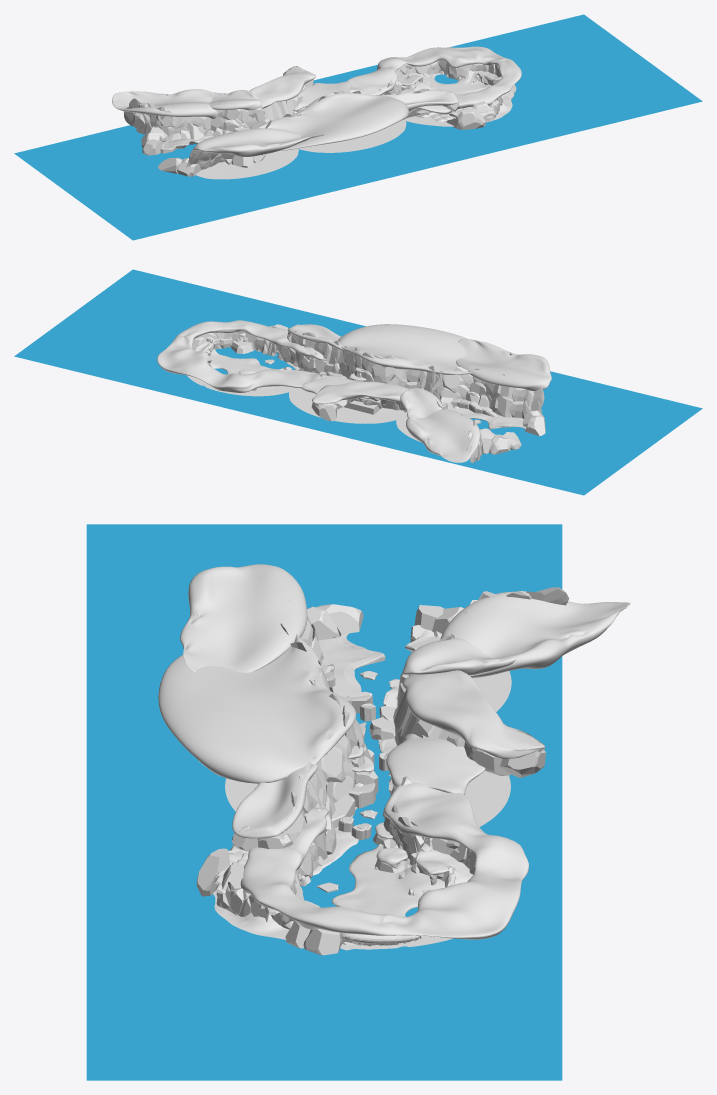
File: Mapa_Pradera 1.fbx
3 views of the same model, one above another, from view 1: azimuth 30°, elevation 25°; view 2: azimuth 150°, elevation 25°; view 3: azimuth 270°, elevation 25° (orthographic). The views are drawn at different scales.
Visible parts, largest first — view 1: sagua, cesped, 8.017, 8.018, Plane.002, suelo, Plane.001; view 2: sagua, cesped, 8.017, suelo, Plane.001, 8.018, Plane.002; view 3: sagua, cesped, 8.017, suelo, Plane.002, Plane.001, 8.018, Retopo_Sphere.010, 6.004.
Boxes of the visible parts, bbox=[...] form: sagua: bbox=[14, 14, 702, 240]; cesped: bbox=[112, 46, 521, 156]; 8.017: bbox=[177, 59, 516, 176]; 8.018: bbox=[123, 98, 264, 155]; Plane.002: bbox=[162, 136, 298, 179]; suelo: bbox=[399, 73, 512, 126]; Plane.001: bbox=[297, 120, 406, 152]; sagua: bbox=[14, 269, 702, 495]; cesped: bbox=[157, 320, 551, 462]; 8.017: bbox=[192, 324, 544, 426]; suelo: bbox=[187, 348, 316, 396]; Plane.001: bbox=[289, 373, 407, 423]; 8.018: bbox=[437, 401, 521, 463]; Plane.002: bbox=[396, 407, 526, 441]; sagua: bbox=[86, 524, 562, 1080]; cesped: bbox=[158, 564, 630, 939]; 8.017: bbox=[196, 599, 545, 955]; suelo: bbox=[213, 837, 452, 950]; Plane.002: bbox=[318, 630, 511, 743]; Plane.001: bbox=[225, 738, 510, 847]; 8.018: bbox=[396, 587, 569, 706]; Retopo_Sphere.010: bbox=[415, 850, 473, 893]; 6.004: bbox=[316, 604, 363, 633].
Bounding box in the file's own units: 55628 × 6252 × 22986.
